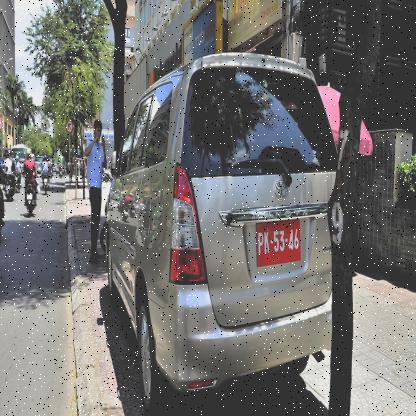license plate: (253, 226, 301, 266)
